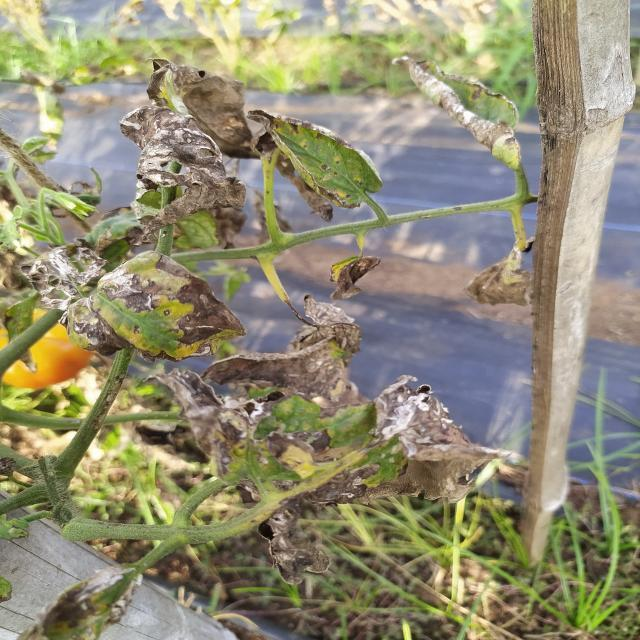Tomato mosaic virus leaf: (56, 248, 252, 367), (239, 107, 387, 212)
